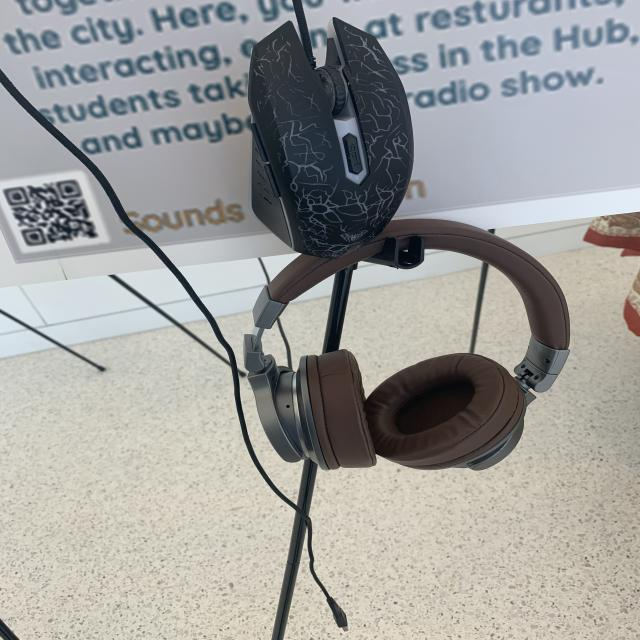Mouse: (239, 17, 415, 259)
